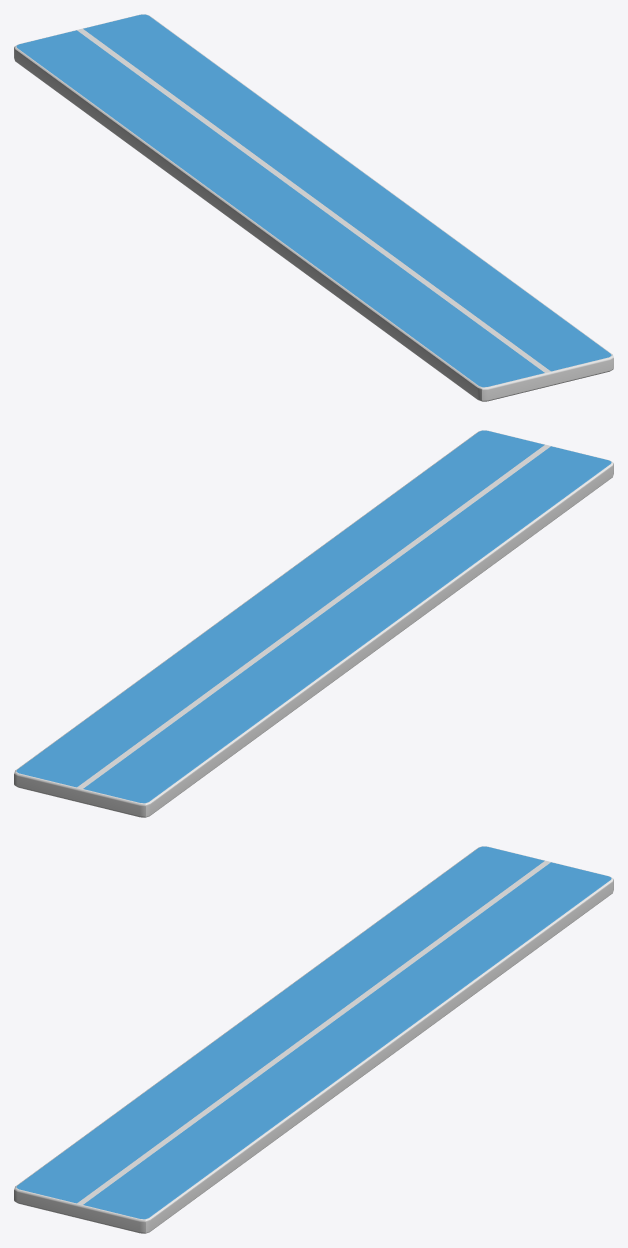
The model's file is Airtrack.fbx.
3 renders of one model, top to bottom at view 1: azimuth 30°, elevation 25°; view 2: azimuth 150°, elevation 25°; view 3: azimuth 330°, elevation 25°, orthographic.
Parts seen in each view (by area): view 1: AirTrack; view 2: AirTrack; view 3: AirTrack.
Part boxes in pixels (box(x1,y1,x2,y2)): AirTrack: box(14, 14, 613, 401); AirTrack: box(14, 430, 613, 817); AirTrack: box(14, 846, 613, 1233).
Bounding box in the file's own units: 2 × 0.2 × 12.
